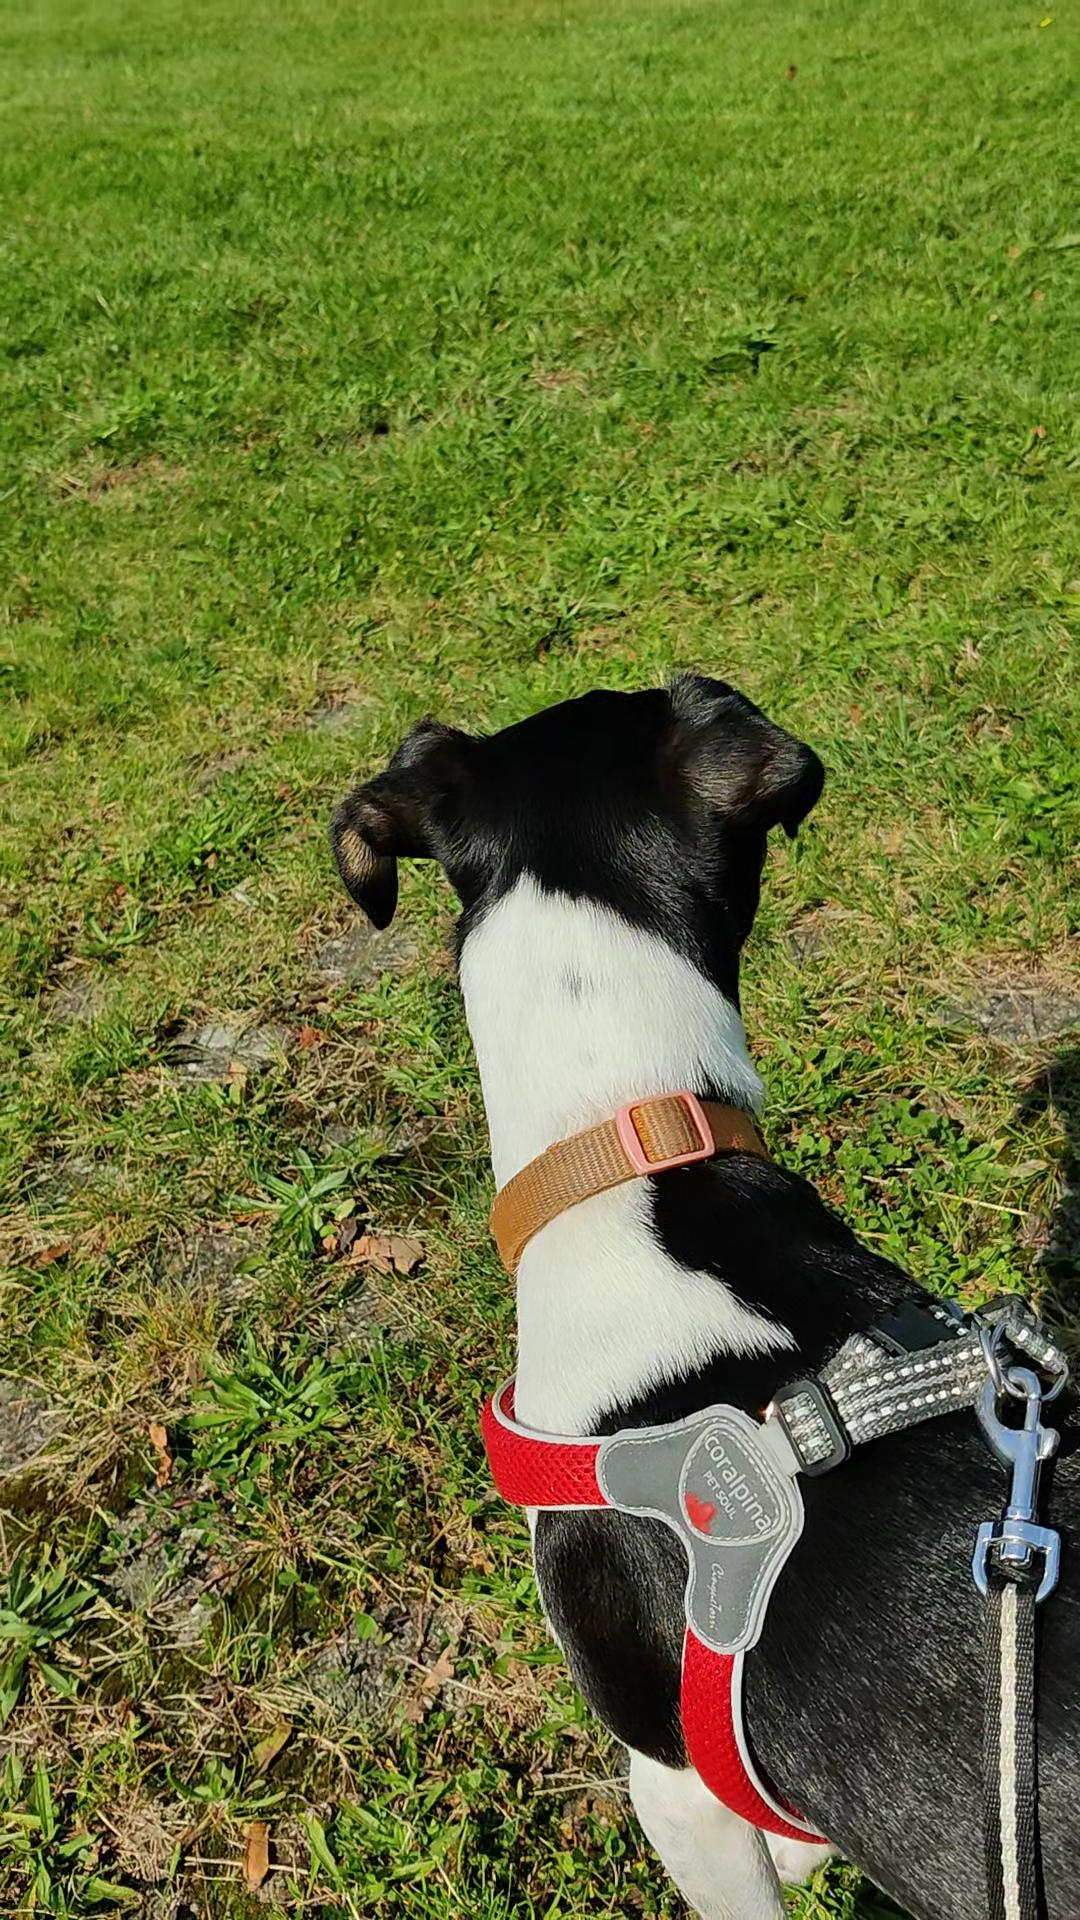Dog: (328, 659, 1079, 1919)
